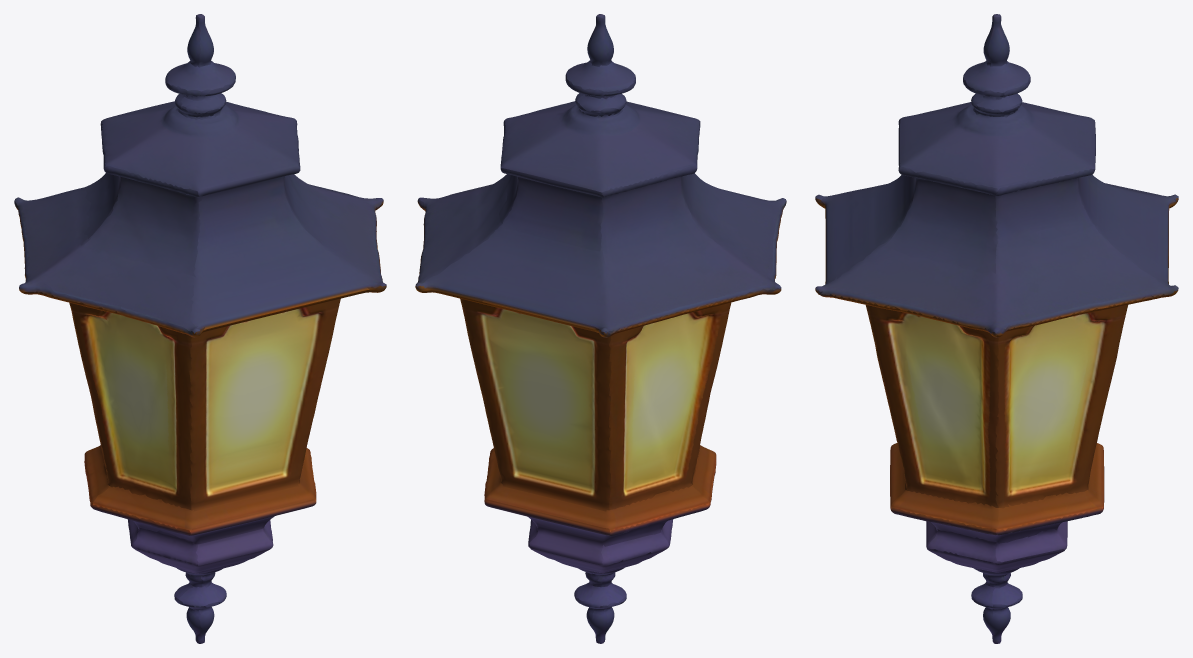
File: lantern.fbx
3 views of the same model, side by side, from view 1: azimuth 30°, elevation 25°; view 2: azimuth 150°, elevation 25°; view 3: azimuth 270°, elevation 25° (orthographic).
Visible parts, largest first — view 1: tmpnxn0oin5.ply; view 2: tmpnxn0oin5.ply; view 3: tmpnxn0oin5.ply.
Part boxes in pixels (x1,y1,x2,y2): tmpnxn0oin5.ply: (14,14,386,643); tmpnxn0oin5.ply: (415,14,786,643); tmpnxn0oin5.ply: (815,14,1178,643).
Bounding box in the file's own units: 59.86 × 98.81 × 51.81.
1 material, 1 textured.
